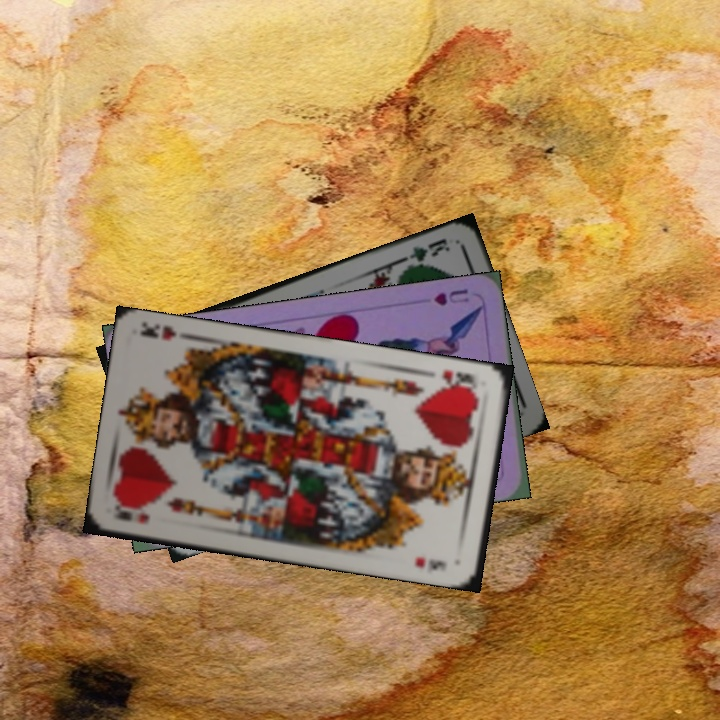GK: (398, 234, 453, 272)
HK: (437, 365, 480, 395), (111, 501, 152, 526)
HU: (430, 284, 472, 308)
